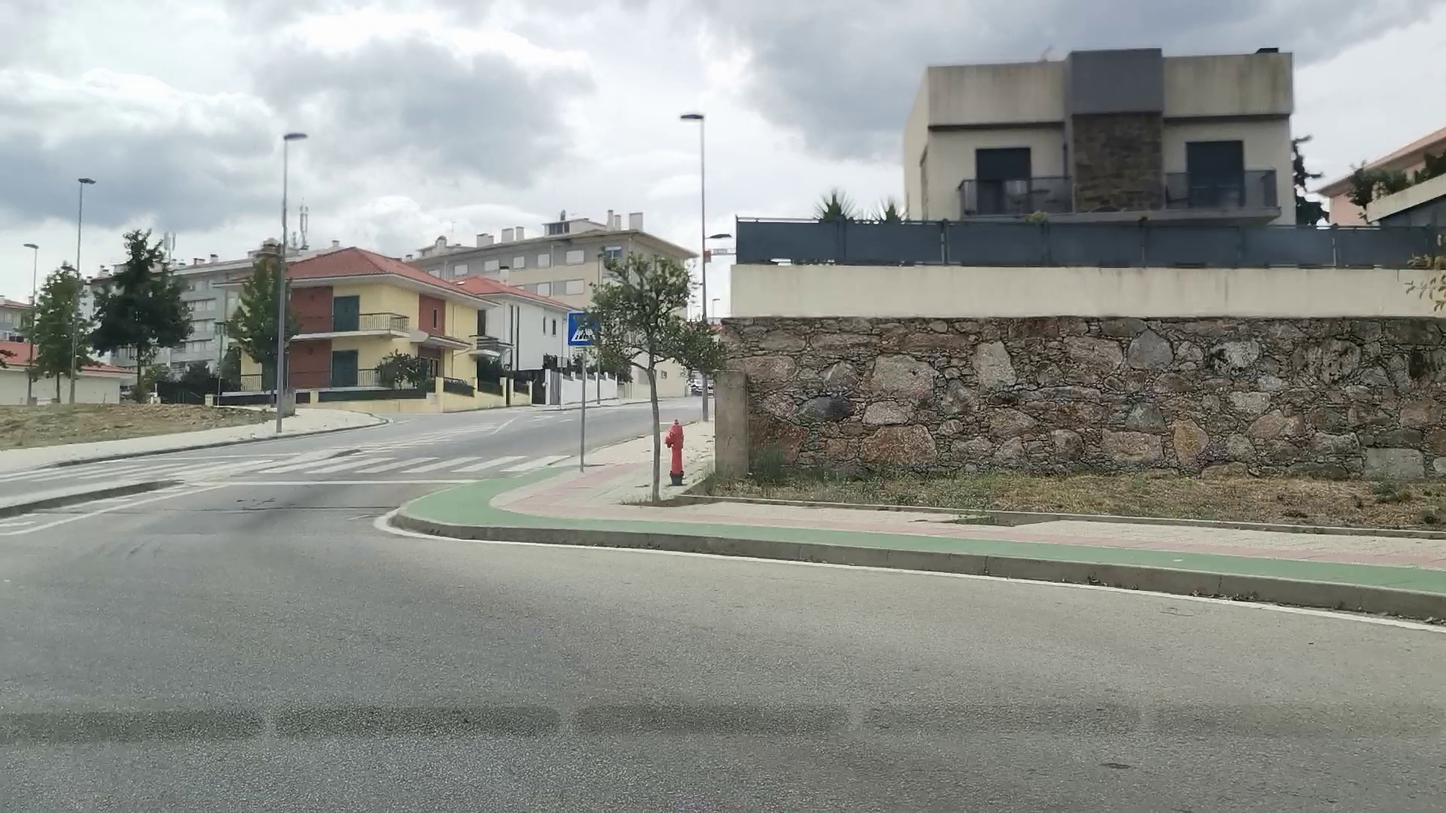Stairs: (259, 450, 576, 474)
